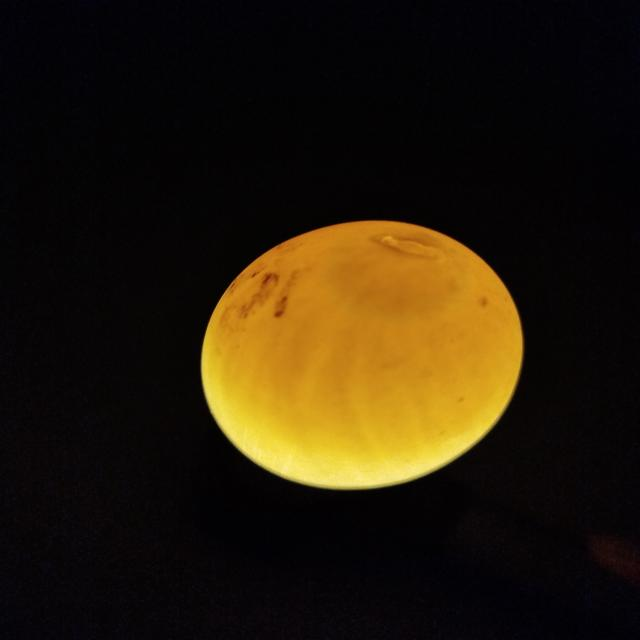Camara de Ar: (330, 232, 470, 322)
Rachadura: (378, 237, 443, 258)
